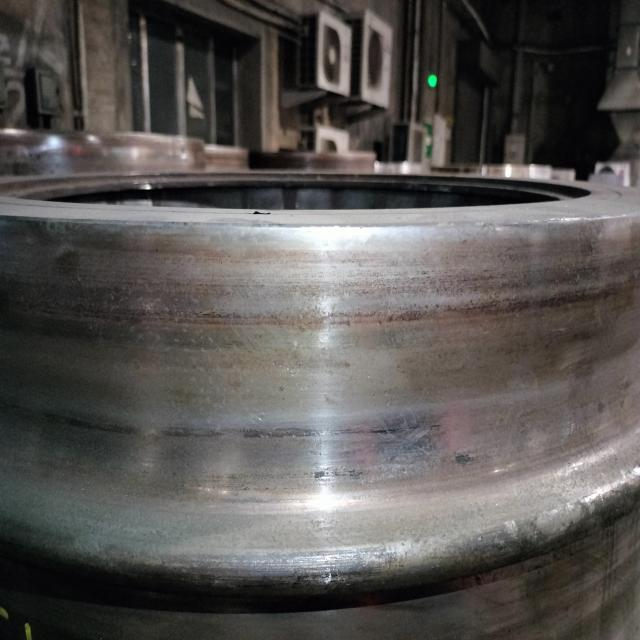flat: (261, 389, 459, 495)
